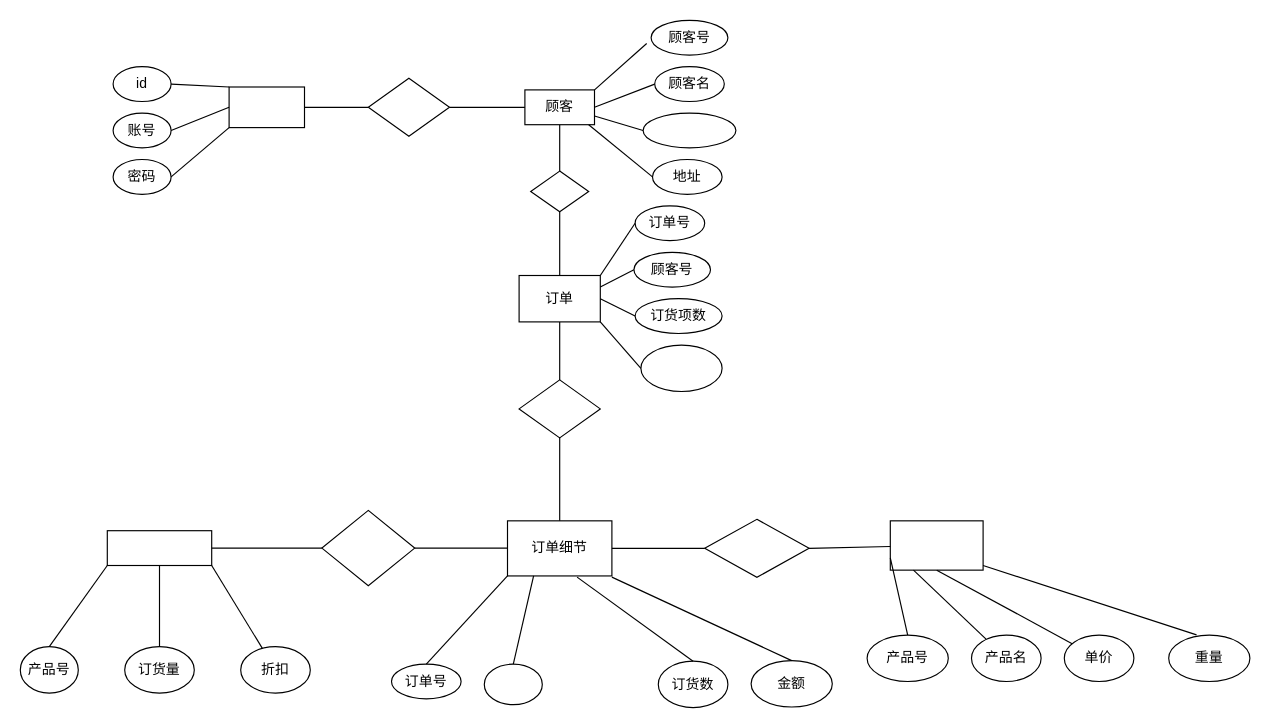
Image size: 1270x728. Some labels were removed from this diagram. The centre of each missing label's shape, as x and y in pixels:
"产品" belongs at point (936, 545).
"参照1" belongs at point (368, 547).
"参照2" belongs at point (756, 547).
"折扣规则" belongs at point (159, 548).
"管理员" belongs at point (266, 107).
"组成" belongs at point (559, 408).
"细则号" belongs at point (512, 684).
"联系方式" belongs at point (689, 130).
"订货" belongs at point (559, 191).
"订货日期" belongs at point (681, 368).
"输入" belongs at point (408, 106).
